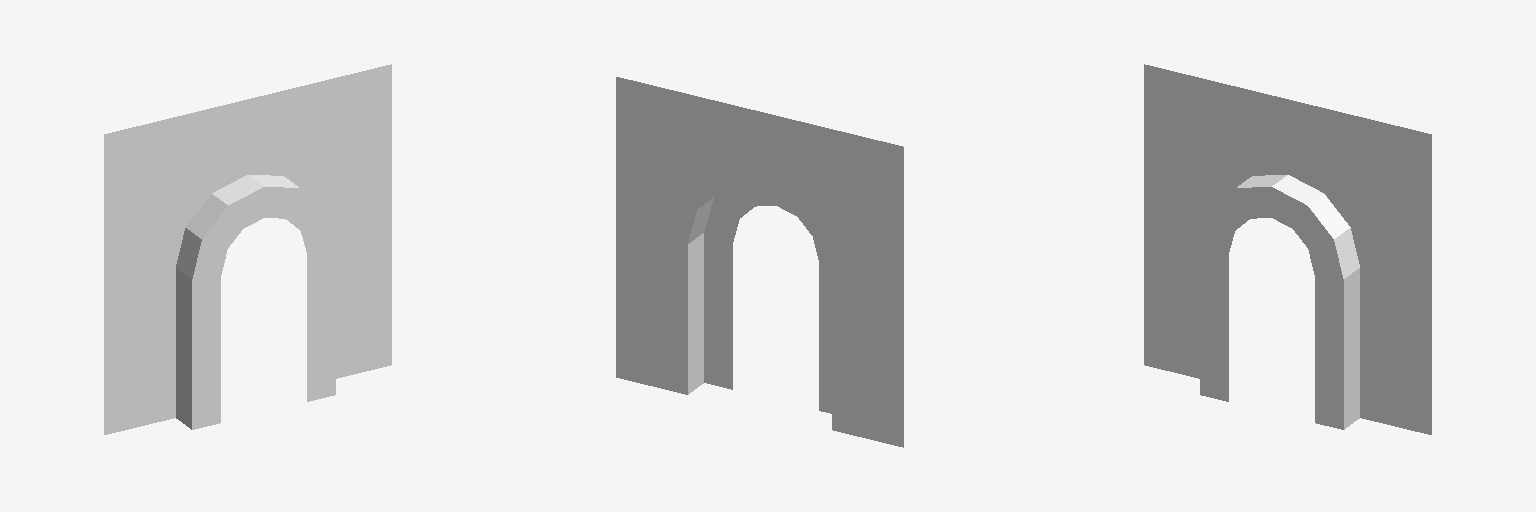
File: wallPaint_flat.obj
3 renders of one model, left to right at view 1: azimuth 30°, elevation 25°; view 2: azimuth 150°, elevation 25°; view 3: azimuth 330°, elevation 25°, orthographic.
Parts seen in each view (by area): view 1: wallPaint_flat; view 2: wallPaint_flat; view 3: wallPaint_flat.
Part boxes in pixels (x1,y1,x2,y2): wallPaint_flat: (104,64,391,434); wallPaint_flat: (616,77,903,447); wallPaint_flat: (1144,64,1431,434).
Size of the model in its own units: 1 by 1 by 0.1.